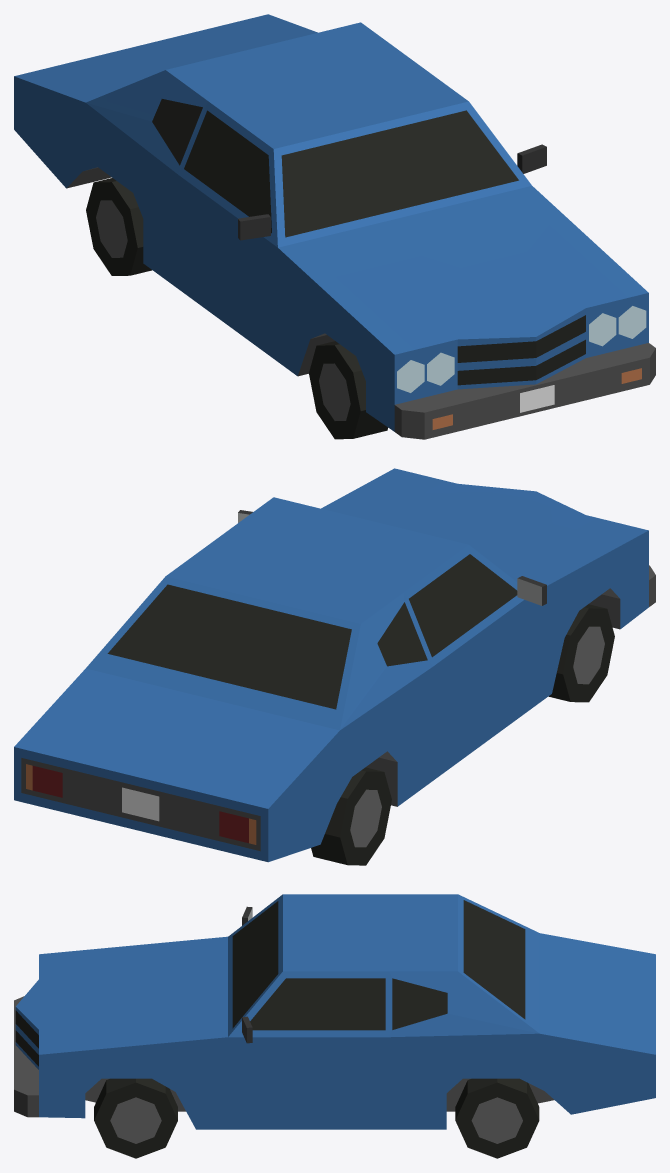
Rendered from Veh_Muscle_Car_02_Blue.glb.
3 renders of one model, top to bottom at view 1: azimuth 30°, elevation 25°; view 2: azimuth 150°, elevation 25°; view 3: azimuth 270°, elevation 25°, orthographic. The views are drawn at different scales.
Visible parts, largest first — view 1: Muscle_Car_02_Blue, Wheel_FR, Wheel_RR; view 2: Muscle_Car_02_Blue, Wheel_RR, Wheel_FR; view 3: Muscle_Car_02_Blue, Wheel_RL, Wheel_FL.
Boxes of the visible parts, bbox=[...] form: Muscle_Car_02_Blue: bbox=[14, 14, 655, 439]; Wheel_FR: bbox=[309, 341, 387, 439]; Wheel_RR: bbox=[86, 178, 151, 275]; Muscle_Car_02_Blue: bbox=[14, 468, 655, 862]; Wheel_RR: bbox=[311, 767, 391, 865]; Wheel_FR: bbox=[548, 604, 614, 702]; Muscle_Car_02_Blue: bbox=[14, 894, 655, 1129]; Wheel_RL: bbox=[455, 1078, 539, 1158]; Wheel_FL: bbox=[94, 1078, 177, 1158].
Size of the model in its own units: 1.18 by 0.8001 by 2.65.
Materials: 1 (1 with a texture image).
